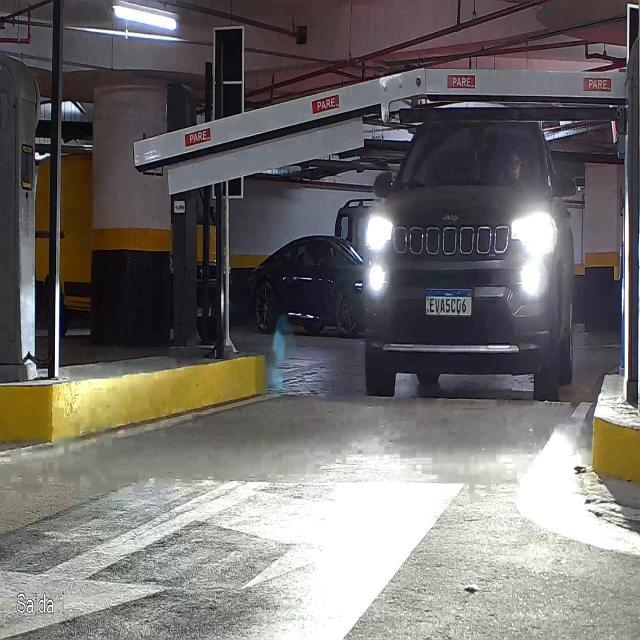mercosul_plate: (422, 287, 474, 320)
